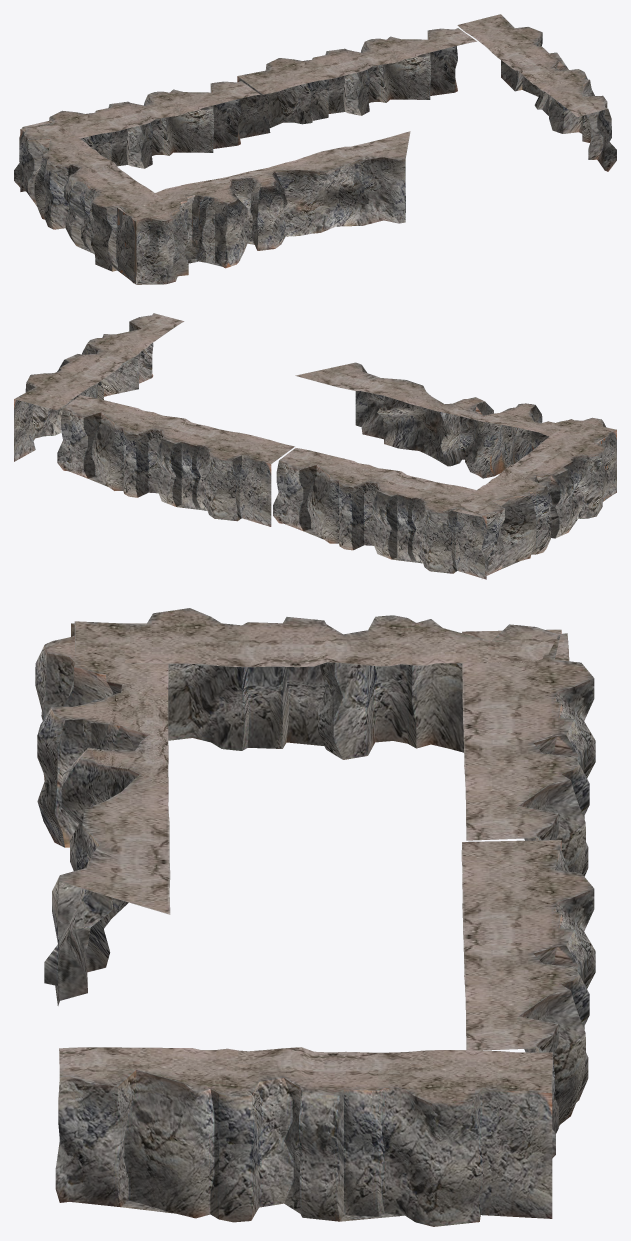
The model's file is Canyon1.FBX.
The picture shows the model from 3 angles, top to bottom: view 1: azimuth 30°, elevation 25°; view 2: azimuth 150°, elevation 25°; view 3: azimuth 270°, elevation 25°; orthographic projection. The views are drawn at different scales.
Parts seen in each view (by area): view 1: wall003; view 2: wall003; view 3: wall003.
Part boxes in pixels (x1,y1,x2,y2): wall003: [14, 14, 616, 284]; wall003: [14, 313, 616, 579]; wall003: [35, 608, 595, 1226].
Bounding box in the file's own units: 3088 × 378 × 1467.
